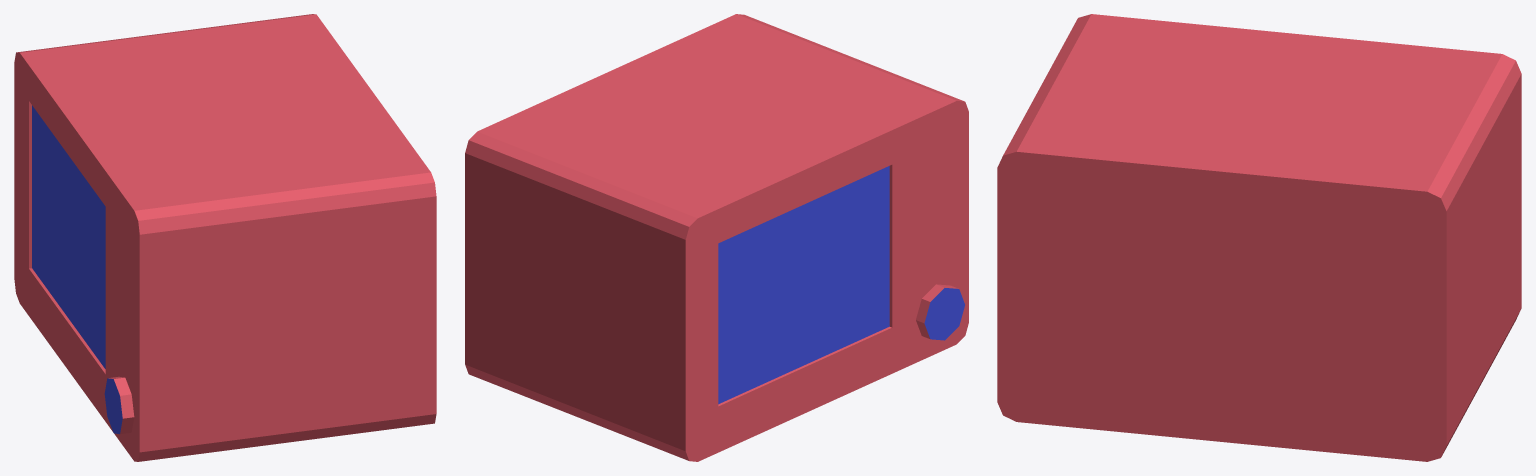
Rendered from Microwave.fbx.
The picture shows the model from 3 angles, left to right: view 1: azimuth 30°, elevation 25°; view 2: azimuth 150°, elevation 25°; view 3: azimuth 270°, elevation 25°; orthographic projection. The views are drawn at different scales.
Visible parts, largest first — view 1: Microwave; view 2: Microwave; view 3: Microwave.
Part boxes in pixels (left/top/right/bottom): Microwave: left=14, top=14, right=436, bottom=461; Microwave: left=465, top=14, right=968, bottom=461; Microwave: left=997, top=14, right=1521, bottom=461.
Size of the model in its own units: 70.07 by 47.74 by 83.93.
